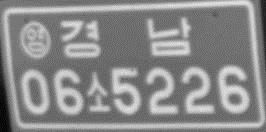0: (18, 68, 50, 116)
2: (145, 66, 179, 116), (180, 66, 214, 116)
5: (110, 65, 141, 116)
6: (216, 62, 251, 116), (52, 68, 84, 117)
경남_D: (58, 14, 193, 60)
소: (83, 70, 111, 113)
영: (18, 19, 53, 61)
